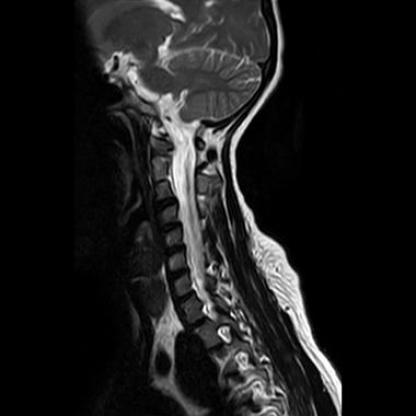Disc Bulgerotation: (173, 288, 198, 305), (162, 244, 189, 257), (166, 268, 191, 281)
